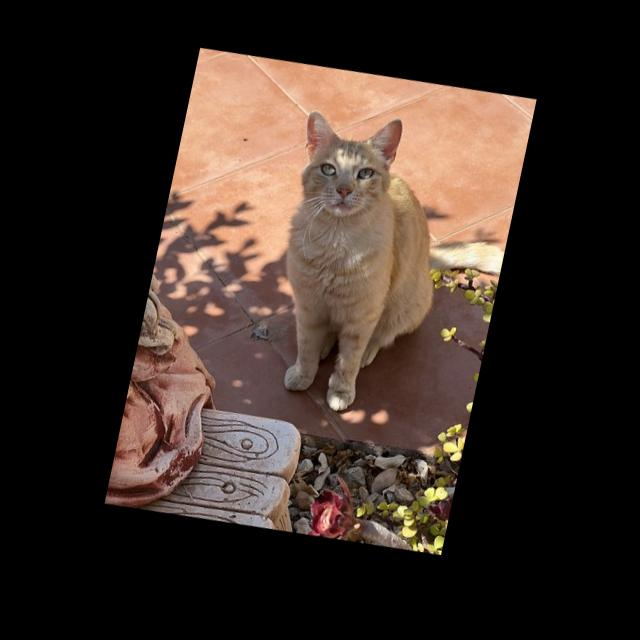animals: (250, 100, 528, 446)
